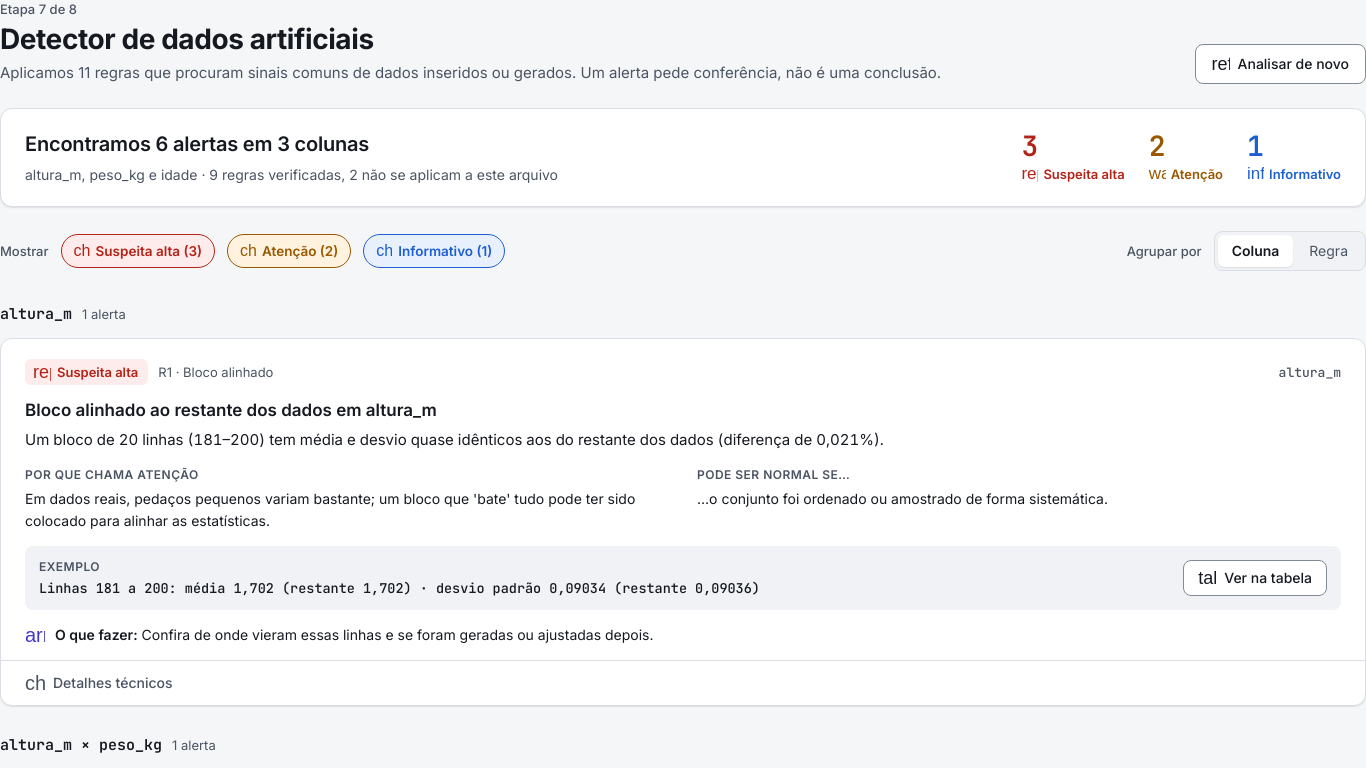
Scenario: PaginaDetector › "Ver na tabela" abre o drawer com as linhas do alerta e fecha devolvendo o foco
The width and height of the screenshot is (1366, 768).
Click the button "Ver na tabela". click: (1255, 578)
box: top-left (1183, 560), bottom-right (1327, 596)
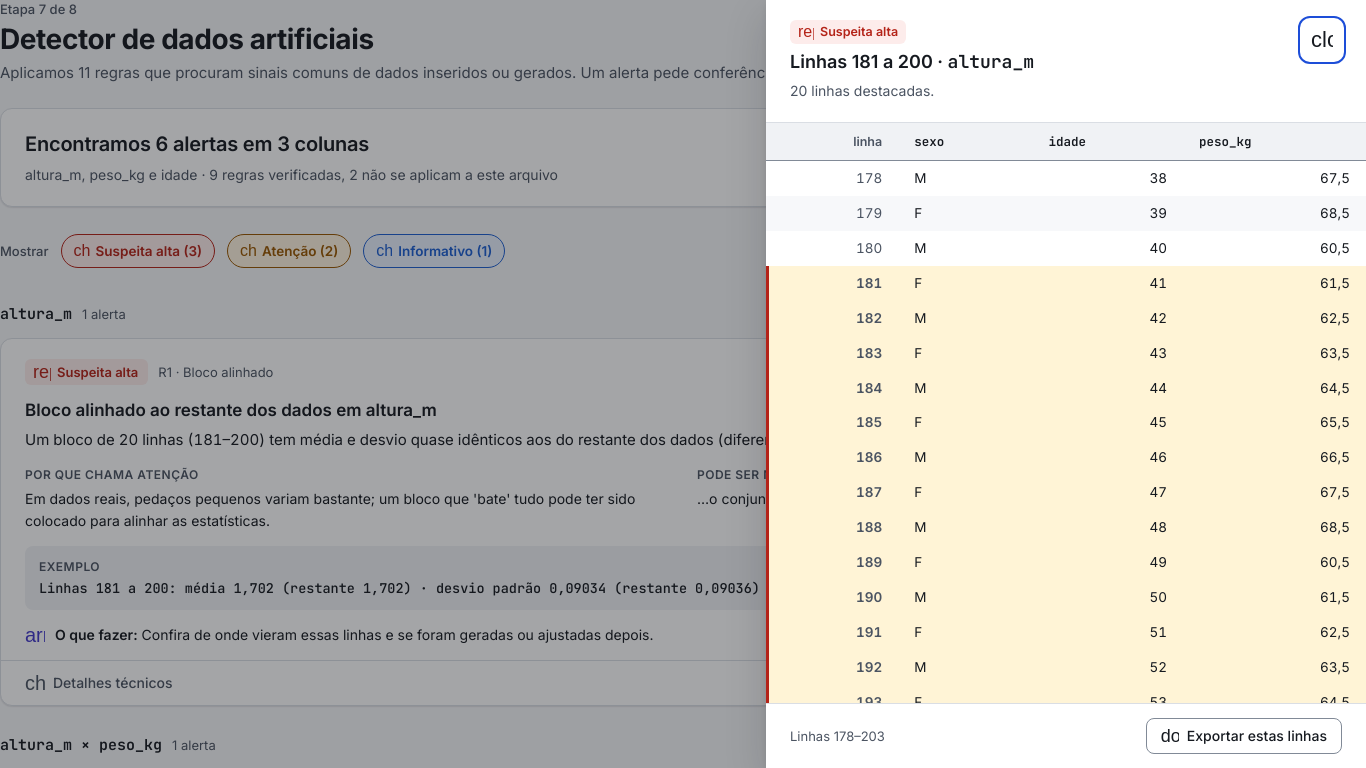
expect the text "20 linhas destacadas." is shown: met, box top-left (790, 80), bottom-right (934, 102)
Press Escape
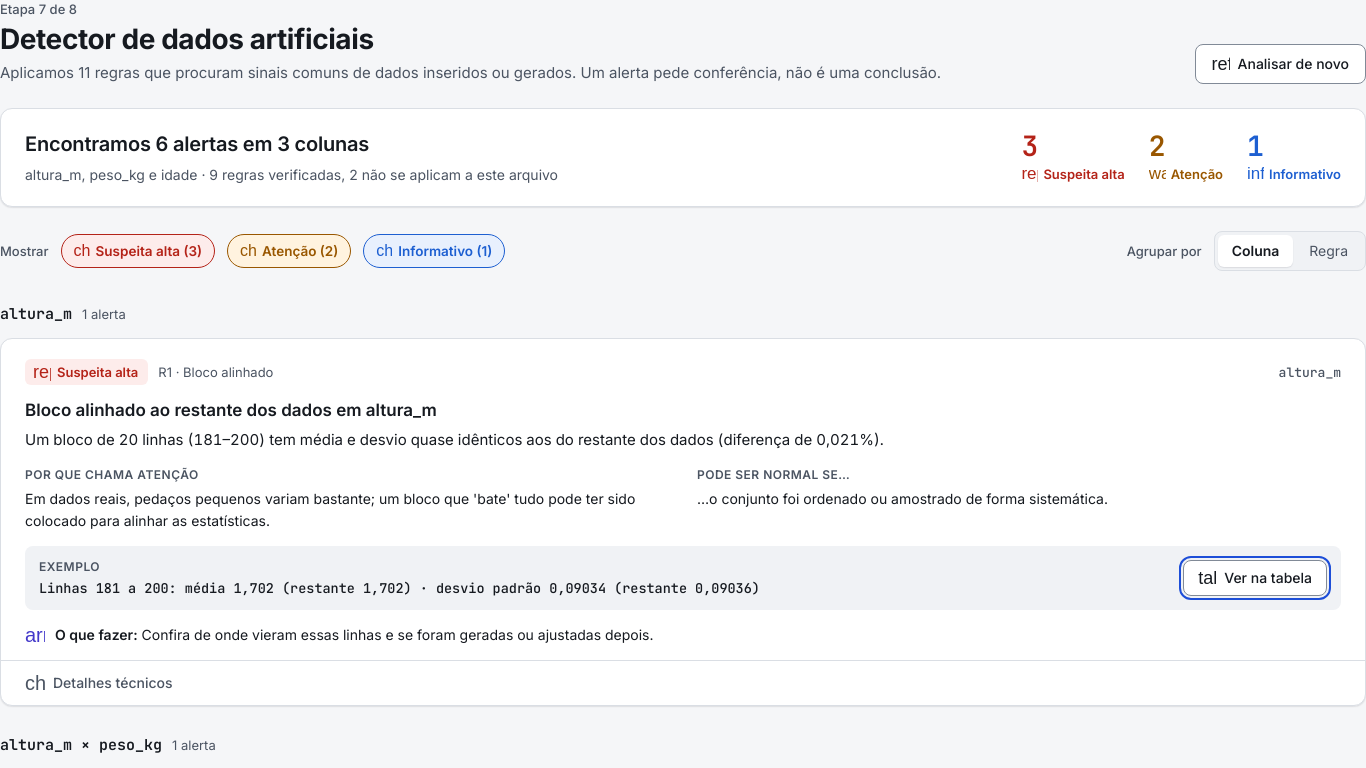
expect the dialog is gone: met
